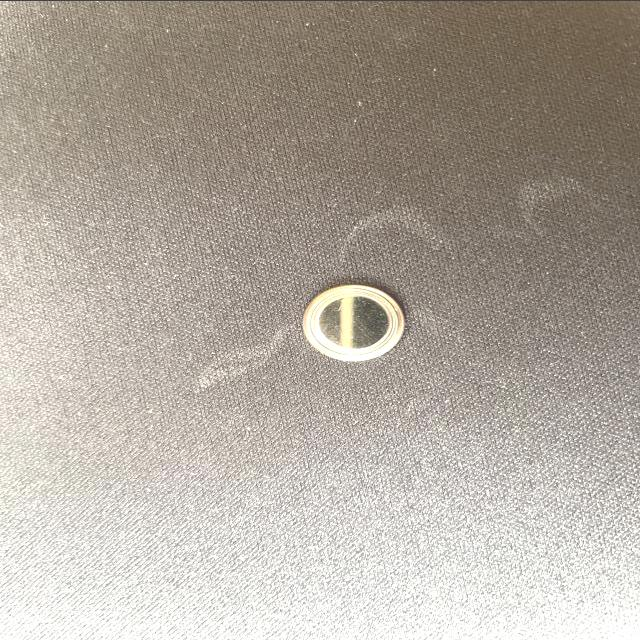COIN: (299, 280, 406, 364)
